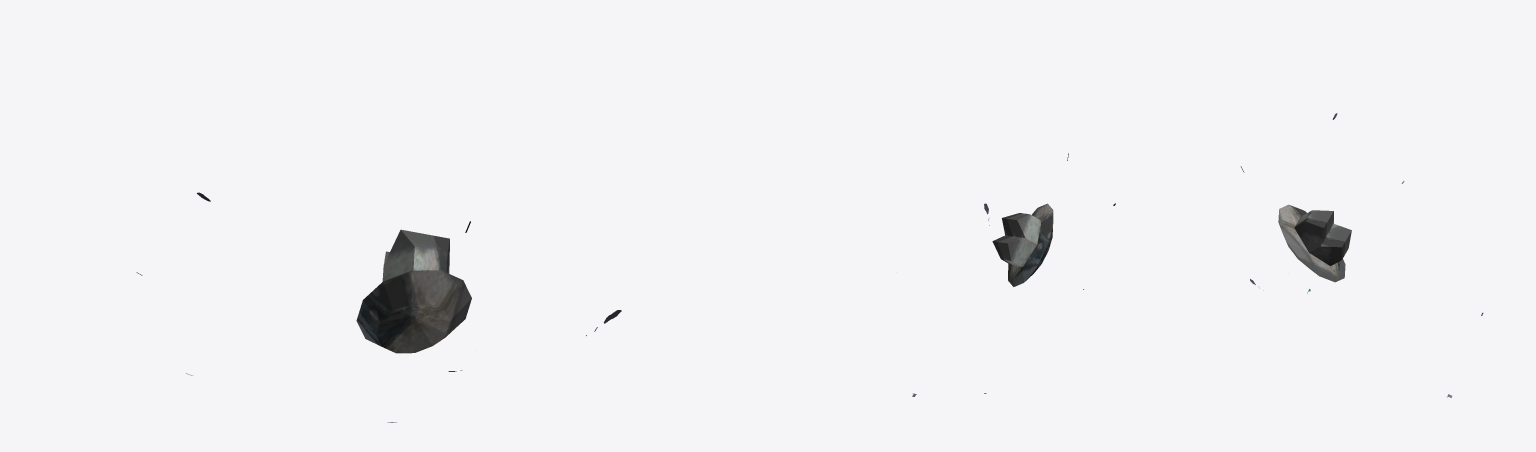
The model's file is JackalShield.obj.
The picture shows the model from 3 angles, left to right: view 1: azimuth 30°, elevation 25°; view 2: azimuth 150°, elevation 25°; view 3: azimuth 270°, elevation 25°; orthographic projection. The views are drawn at different scales.
Parts seen in each view (by area): view 1: jackal_shield_active_5_0; view 2: jackal_shield_active_5_0; view 3: jackal_shield_active_5_0.
Part boxes in pixels (x1=…): jackal_shield_active_5_0: x1=356, y1=229, x2=471, y2=353; jackal_shield_active_5_0: x1=992, y1=203, x2=1053, y2=286; jackal_shield_active_5_0: x1=1278, y1=204, x2=1351, y2=282.
Size of the model in its own units: 0.3852 by 0.3758 by 0.3537.
2 materials, 2 textured.
